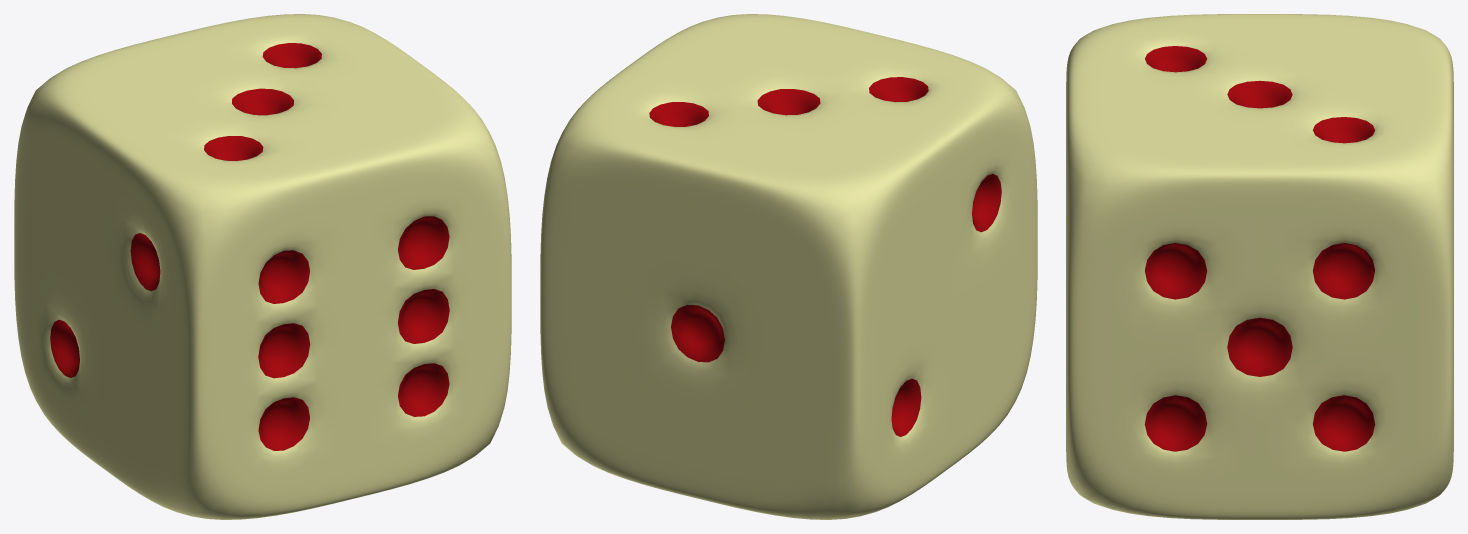
Rendered from Dice.FBX.
3 views of the same model, side by side, from view 1: azimuth 30°, elevation 25°; view 2: azimuth 150°, elevation 25°; view 3: azimuth 270°, elevation 25° (orthographic). The views are drawn at different scales.
Parts seen in each view (by area): view 1: Box001; view 2: Box001; view 3: Box001.
Boxes of the visible parts, x1,y1,x2,y2 form: Box001: (14,14,511,519); Box001: (540,14,1037,519); Box001: (1066,14,1453,519).
Bounding box in the file's own units: 50 × 50 × 50.
